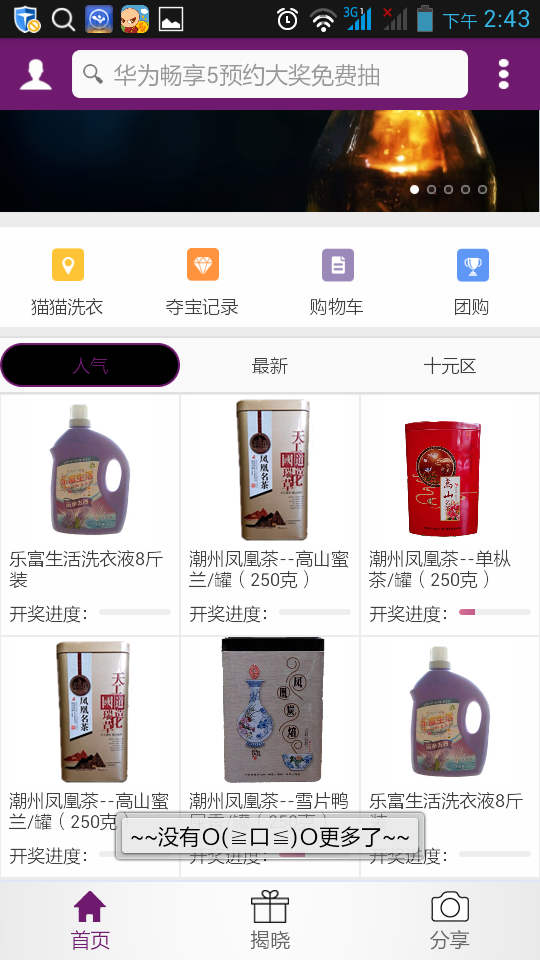alert: (111, 811, 432, 860)
nav: (7, 235, 540, 320), (6, 881, 523, 960), (3, 348, 540, 390)
textview: (59, 46, 485, 104)
